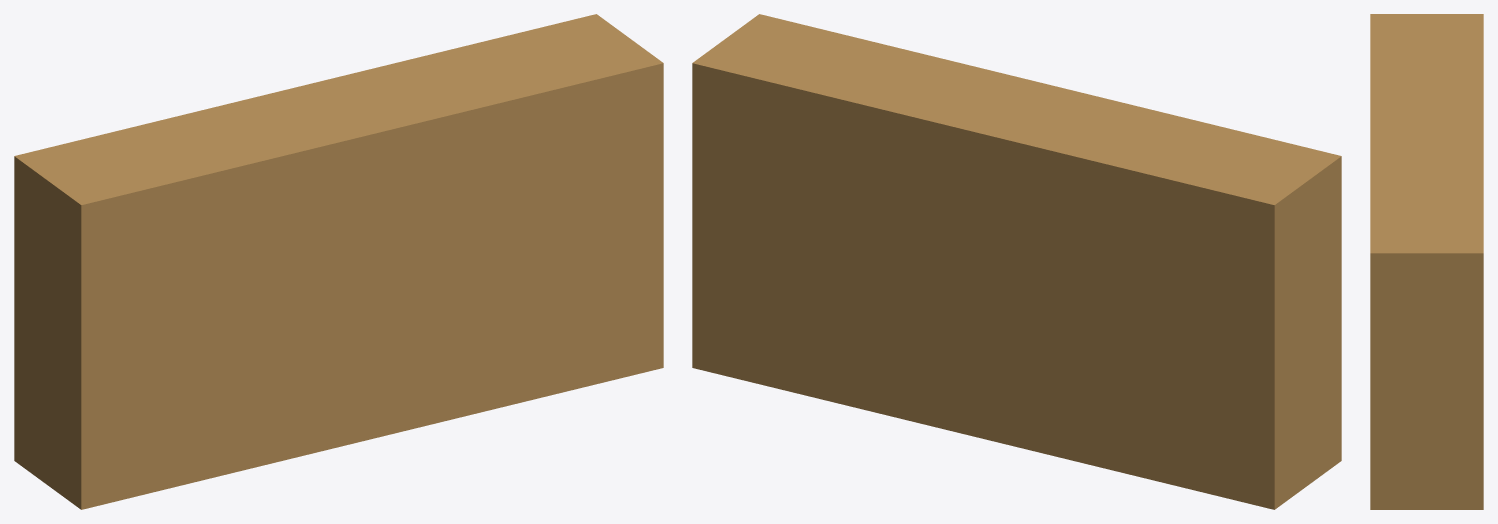
The picture shows the model from 3 angles, left to right: view 1: azimuth 30°, elevation 25°; view 2: azimuth 150°, elevation 25°; view 3: azimuth 270°, elevation 25°; orthographic projection. The views are drawn at different scales.
Parts seen in each view (by area): view 1: RUN-084-S00-NOG-15; view 2: RUN-084-S00-NOG-15; view 3: RUN-084-S00-NOG-15.
Part boxes in pixels (x1,y1,x2,y2): RUN-084-S00-NOG-15: (14,14,663,509); RUN-084-S00-NOG-15: (692,14,1341,509); RUN-084-S00-NOG-15: (1370,14,1483,509).
Bounding box in the file's own units: 0.09 × 0.045 × 0.018.
